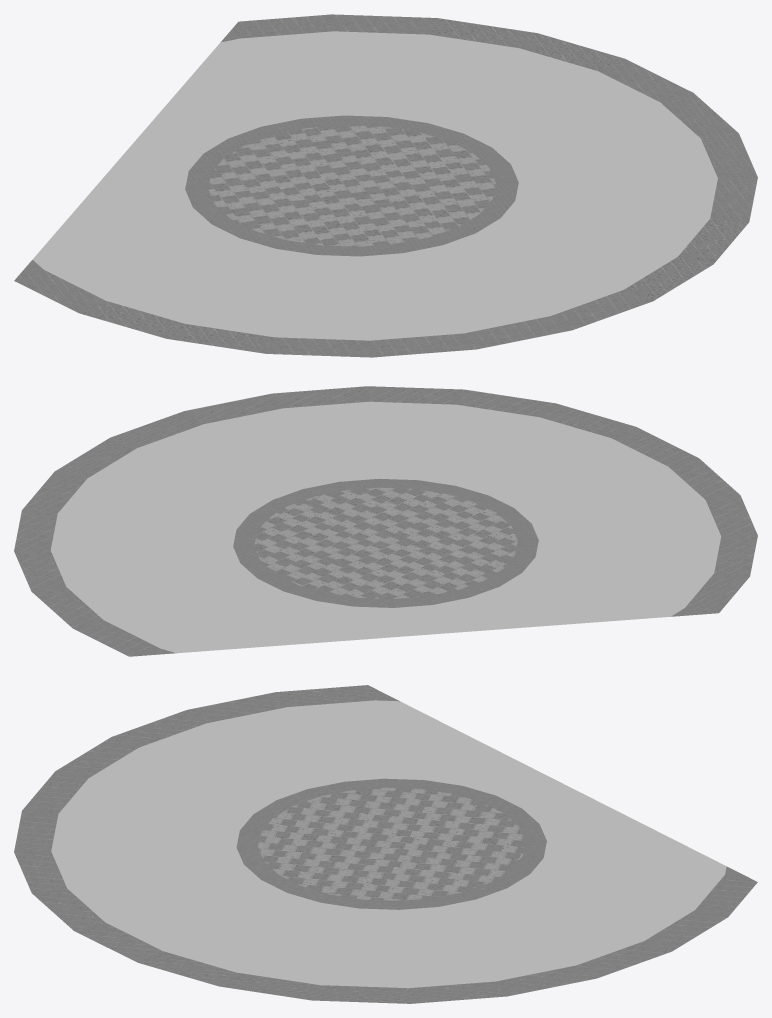
The picture shows the model from 3 angles, top to bottom: view 1: azimuth 30°, elevation 25°; view 2: azimuth 150°, elevation 25°; view 3: azimuth 270°, elevation 25°; orthographic projection. The views are drawn at different scales.
Parts seen in each view (by area): view 1: Group_160644; view 2: Group_160644; view 3: Group_160644.
Part boxes in pixels (x1,y1,x2,y2): Group_160644: (14, 14, 757, 357); Group_160644: (14, 386, 757, 656); Group_160644: (14, 685, 757, 1003).
Size of what is drawn, in the model's own units: 1122 by 0 by 1106.
